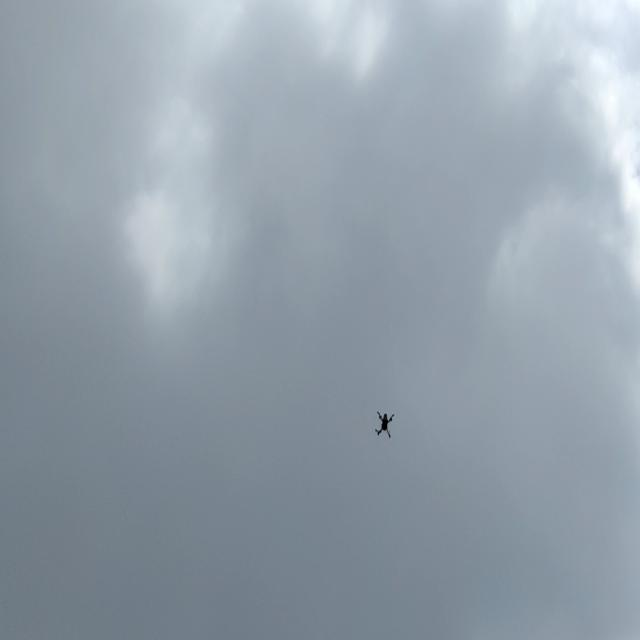drone: (371, 402, 396, 446)
